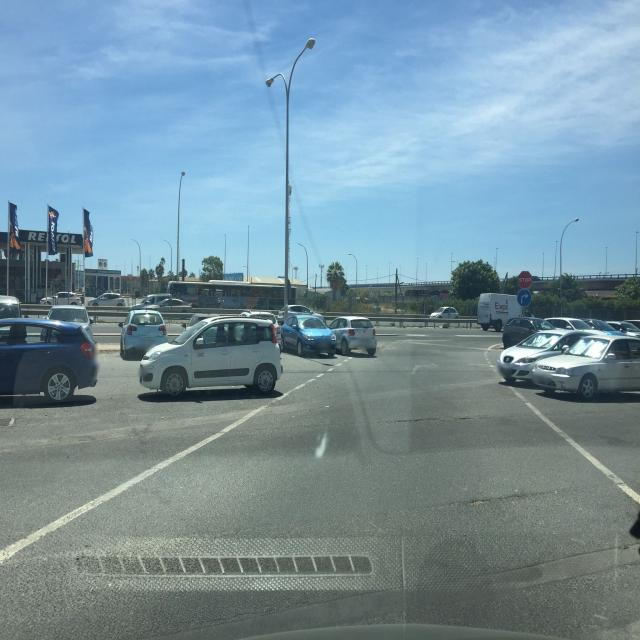car: (138, 317, 283, 398), (0, 316, 99, 404), (529, 334, 640, 399), (497, 329, 602, 385), (280, 313, 336, 358), (120, 310, 168, 358), (328, 316, 378, 357), (48, 305, 94, 336), (501, 316, 544, 347), (543, 317, 598, 331), (139, 294, 193, 308), (583, 318, 622, 332), (139, 293, 175, 307), (607, 320, 640, 335), (91, 293, 126, 307), (429, 306, 459, 319), (54, 291, 80, 305)
